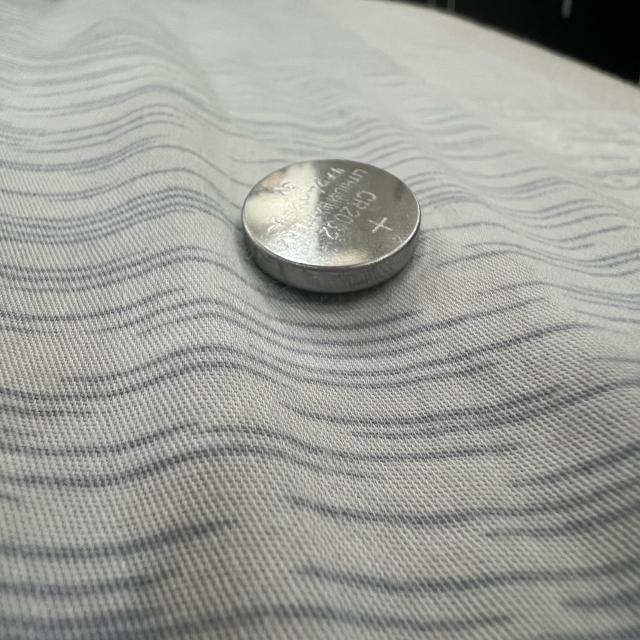COIN: (238, 156, 421, 296)
